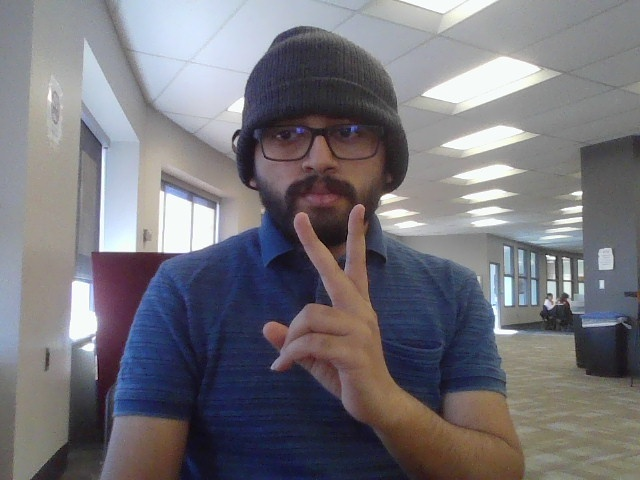start: (259, 201, 409, 429)
